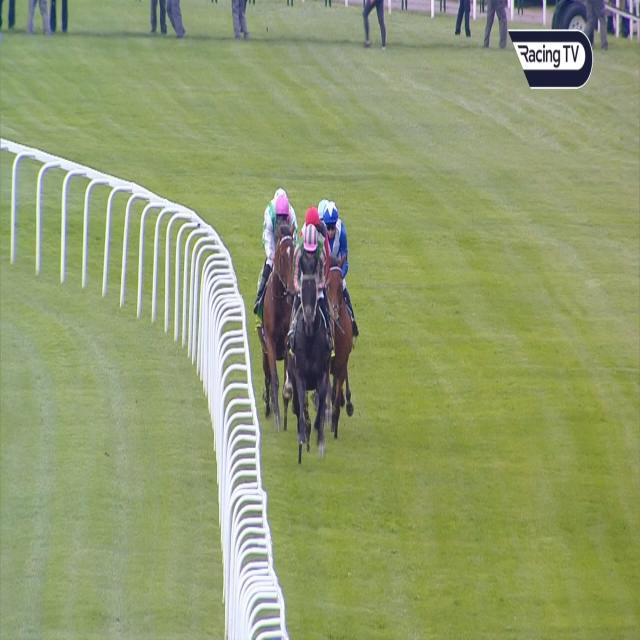horses-racing: (289, 225, 332, 463), (257, 196, 293, 402), (326, 202, 355, 434), (265, 187, 300, 254), (298, 204, 326, 246), (317, 191, 327, 237)
